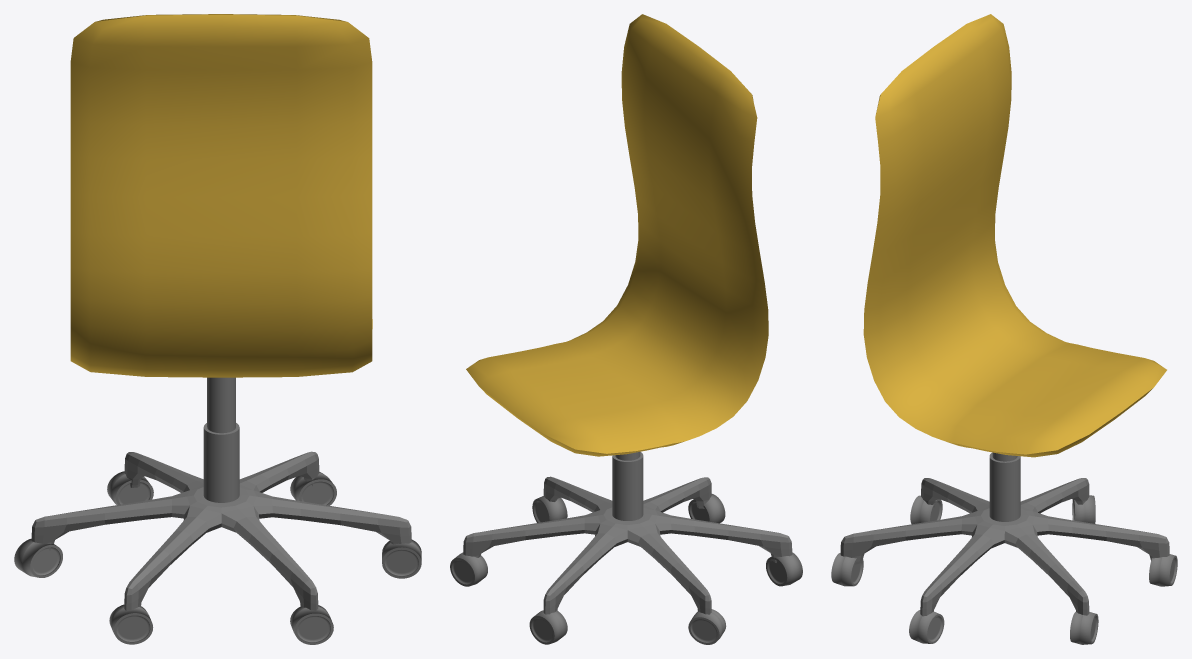
Rendered from chair.glb.
3 renders of one model, left to right at view 1: azimuth 30°, elevation 25°; view 2: azimuth 150°, elevation 25°; view 3: azimuth 270°, elevation 25°, orthographic. The views are drawn at different scales.
Visible parts, largest first — view 1: Chair, ChairLeg2, ChairLeg1, ChairLegWheel4, ChairLegWheel6, ChairLegWheel5, ChairLegWheel1, ChairLegWheel2, ChairLegWheel3; view 2: Chair, ChairLeg2, ChairLeg1, ChairLegWheel3, ChairLegWheel4, ChairLegWheel2, ChairLegWheel5, ChairLegWheel1, ChairLegWheel6; view 3: Chair, ChairLeg2, ChairLeg1, ChairLegWheel1, ChairLegWheel6, ChairLegWheel2, ChairLegWheel3, ChairLegWheel5, ChairLegWheel4.
Boxes of the visible parts, left/top/right/bottom form: Chair: left=70, top=14, right=372, bottom=377; ChairLeg2: left=31, top=451, right=411, bottom=611; ChairLeg1: left=203, top=377, right=239, bottom=502; ChairLegWheel4: left=14, top=538, right=62, bottom=577; ChairLegWheel6: left=290, top=605, right=333, bottom=644; ChairLegWheel5: left=109, top=604, right=153, bottom=644; ChairLegWheel1: left=382, top=539, right=421, bottom=578; ChairLegWheel2: left=290, top=472, right=336, bottom=505; ChairLegWheel3: left=107, top=471, right=153, bottom=504; Chair: left=466, top=14, right=768, bottom=456; ChairLeg2: left=463, top=476, right=792, bottom=614; ChairLeg1: left=612, top=451, right=643, bottom=520; ChairLegWheel3: left=529, top=610, right=567, bottom=644; ChairLegWheel4: left=688, top=609, right=726, bottom=644; ChairLegWheel2: left=450, top=552, right=487, bottom=586; ChairLegWheel5: left=766, top=552, right=802, bottom=586; ChairLegWheel1: left=532, top=496, right=567, bottom=522; ChairLegWheel6: left=688, top=494, right=725, bottom=523; Chair: left=863, top=14, right=1166, bottom=457; ChairLeg2: left=840, top=478, right=1169, bottom=616; ChairLeg1: left=989, top=452, right=1020, bottom=521; ChairLegWheel1: left=909, top=610, right=944, bottom=643; ChairLegWheel6: left=831, top=553, right=863, bottom=586; ChairLegWheel2: left=1070, top=612, right=1098, bottom=644; ChairLegWheel3: left=1149, top=554, right=1177, bottom=586; ChairLegWheel5: left=910, top=495, right=942, bottom=524; ChairLegWheel4: left=1072, top=495, right=1095, bottom=523.
Bounding box in the file's own units: 0.7893 × 1.43 × 0.8619.
